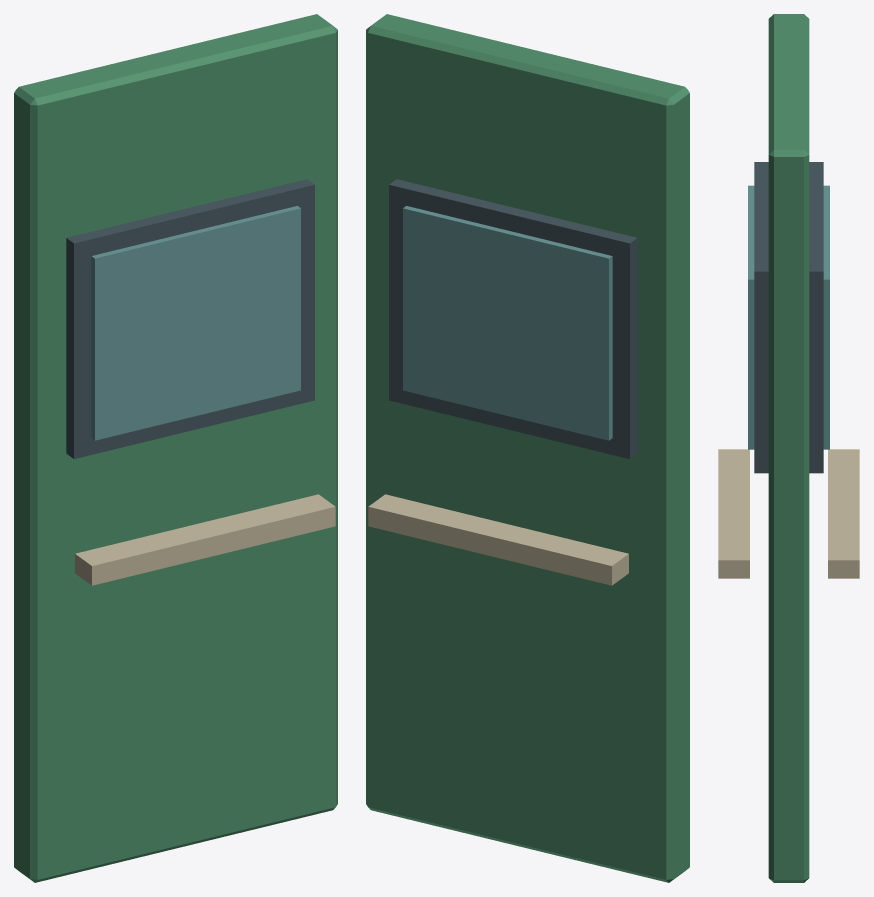
File: door_fire_exit.glb
The picture shows the model from 3 angles, left to right: view 1: azimuth 30°, elevation 25°; view 2: azimuth 150°, elevation 25°; view 3: azimuth 270°, elevation 25°; orthographic projection. The views are drawn at different scales.
Visible parts, largest first — view 1: door_fire_exit; view 2: door_fire_exit; view 3: door_fire_exit.
Boxes of the visible parts, <box> form: door_fire_exit: <box>14,14,337,882</box>; door_fire_exit: <box>366,14,689,882</box>; door_fire_exit: <box>718,14,859,882</box>.
Size of the model in its own units: 1.15 by 2.8 by 0.49.
